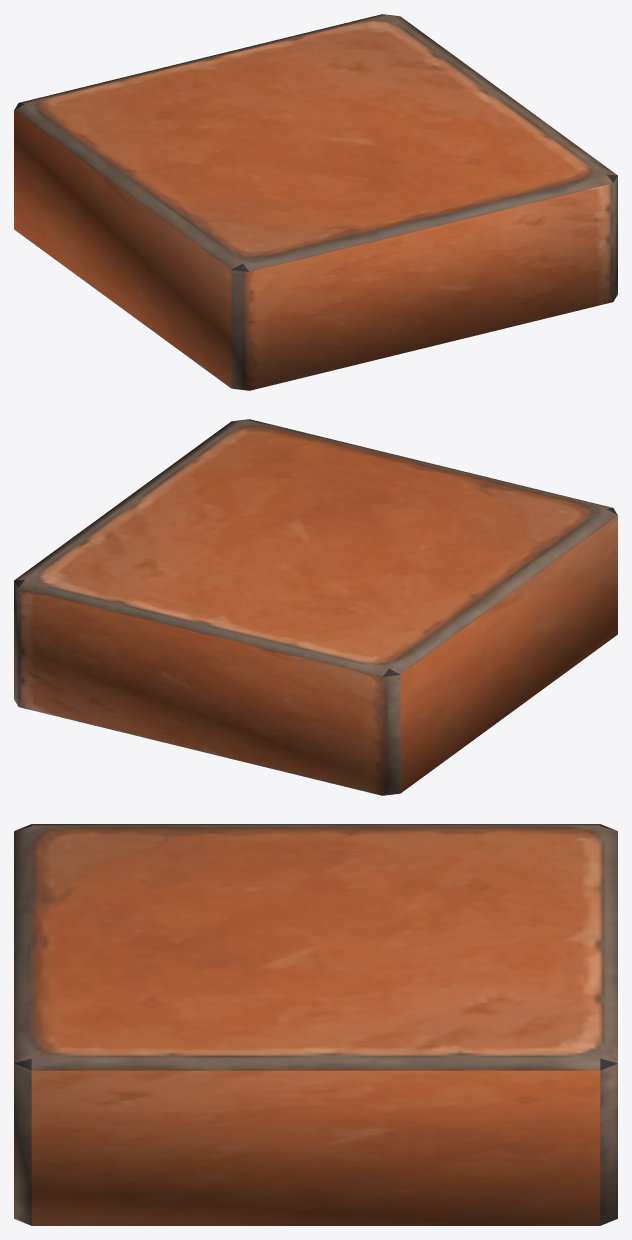
Rendered from tuğla parçası.fbx.
The picture shows the model from 3 angles, top to bottom: view 1: azimuth 30°, elevation 25°; view 2: azimuth 150°, elevation 25°; view 3: azimuth 270°, elevation 25°; orthographic projection. The views are drawn at different scales.
Visible parts, largest first — view 1: Cube; view 2: Cube; view 3: Cube.
Boxes of the visible parts, x1,y1,x2,y2 form: Cube: (14,14,617,390); Cube: (14,419,617,795); Cube: (14,824,617,1225).
Size of the model in its own units: 34.13 by 10.65 by 35.33.
1 material, 1 textured.
